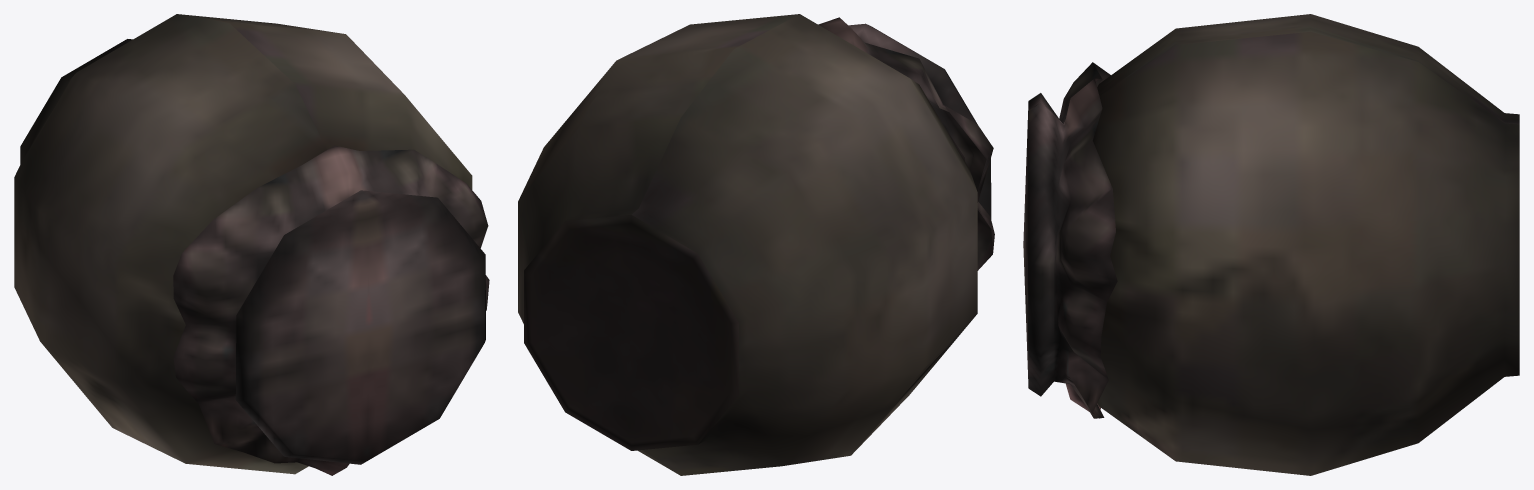
The model's file is proj_chankao_att.fbx.
3 renders of one model, left to right at view 1: azimuth 30°, elevation 25°; view 2: azimuth 150°, elevation 25°; view 3: azimuth 270°, elevation 25°, orthographic. The views are drawn at different scales.
Parts seen in each view (by area): view 1: chankao_bottle; view 2: chankao_bottle; view 3: chankao_bottle.
Part boxes in pixels (x1=…): chankao_bottle: x1=14, y1=14, x2=489, y2=475; chankao_bottle: x1=518, y1=14, x2=994, y2=475; chankao_bottle: x1=1023, y1=14, x2=1519, y2=475.
Bounding box in the file's own units: 0.626 × 0.6582 × 0.694.
Materials: 2 (2 with a texture image).
